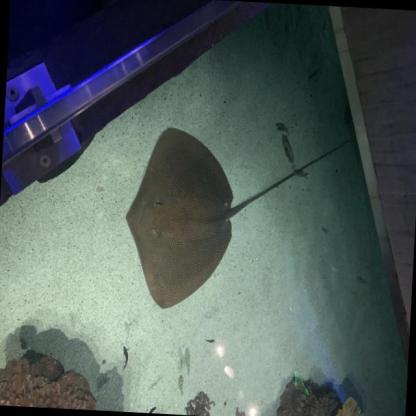fish: (283, 139, 295, 165), (176, 374, 187, 394), (121, 346, 129, 371), (205, 334, 217, 348), (144, 404, 158, 414)
stingray: (121, 124, 238, 312)
